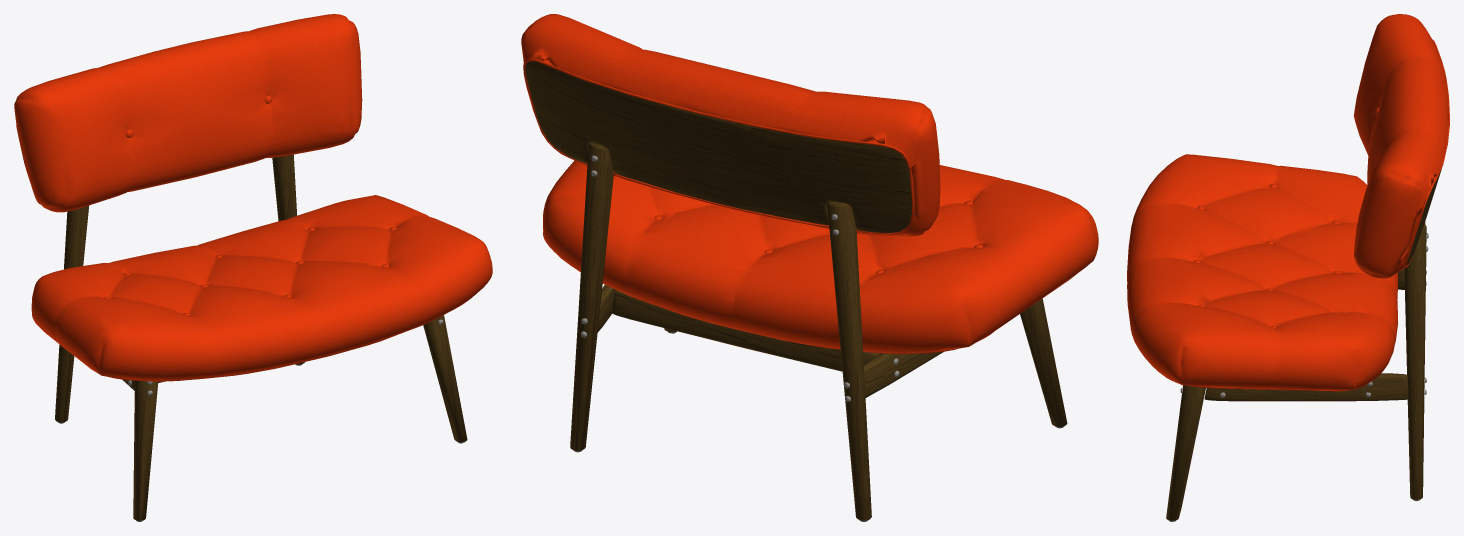
Rendered from chair.glb.
3 views of the same model, side by side, from view 1: azimuth 30°, elevation 25°; view 2: azimuth 150°, elevation 25°; view 3: azimuth 270°, elevation 25° (orthographic). The views are drawn at different scales.
Visible parts, largest first — view 1: SheenChair_fabric, SheenChair_wood; view 2: SheenChair_fabric, SheenChair_wood; view 3: SheenChair_fabric, SheenChair_wood.
Boxes of the visible parts, x1,y1,x2,y2 form: SheenChair_fabric: (14, 14, 492, 381); SheenChair_wood: (55, 154, 467, 520); SheenChair_fabric: (521, 14, 1098, 354); SheenChair_wood: (525, 61, 1067, 520); SheenChair_fabric: (1127, 14, 1449, 391); SheenChair_wood: (1166, 169, 1441, 520).
Size of the model in its own units: 0.8264 by 0.6856 by 0.5699.
4 materials, 3 textured.
